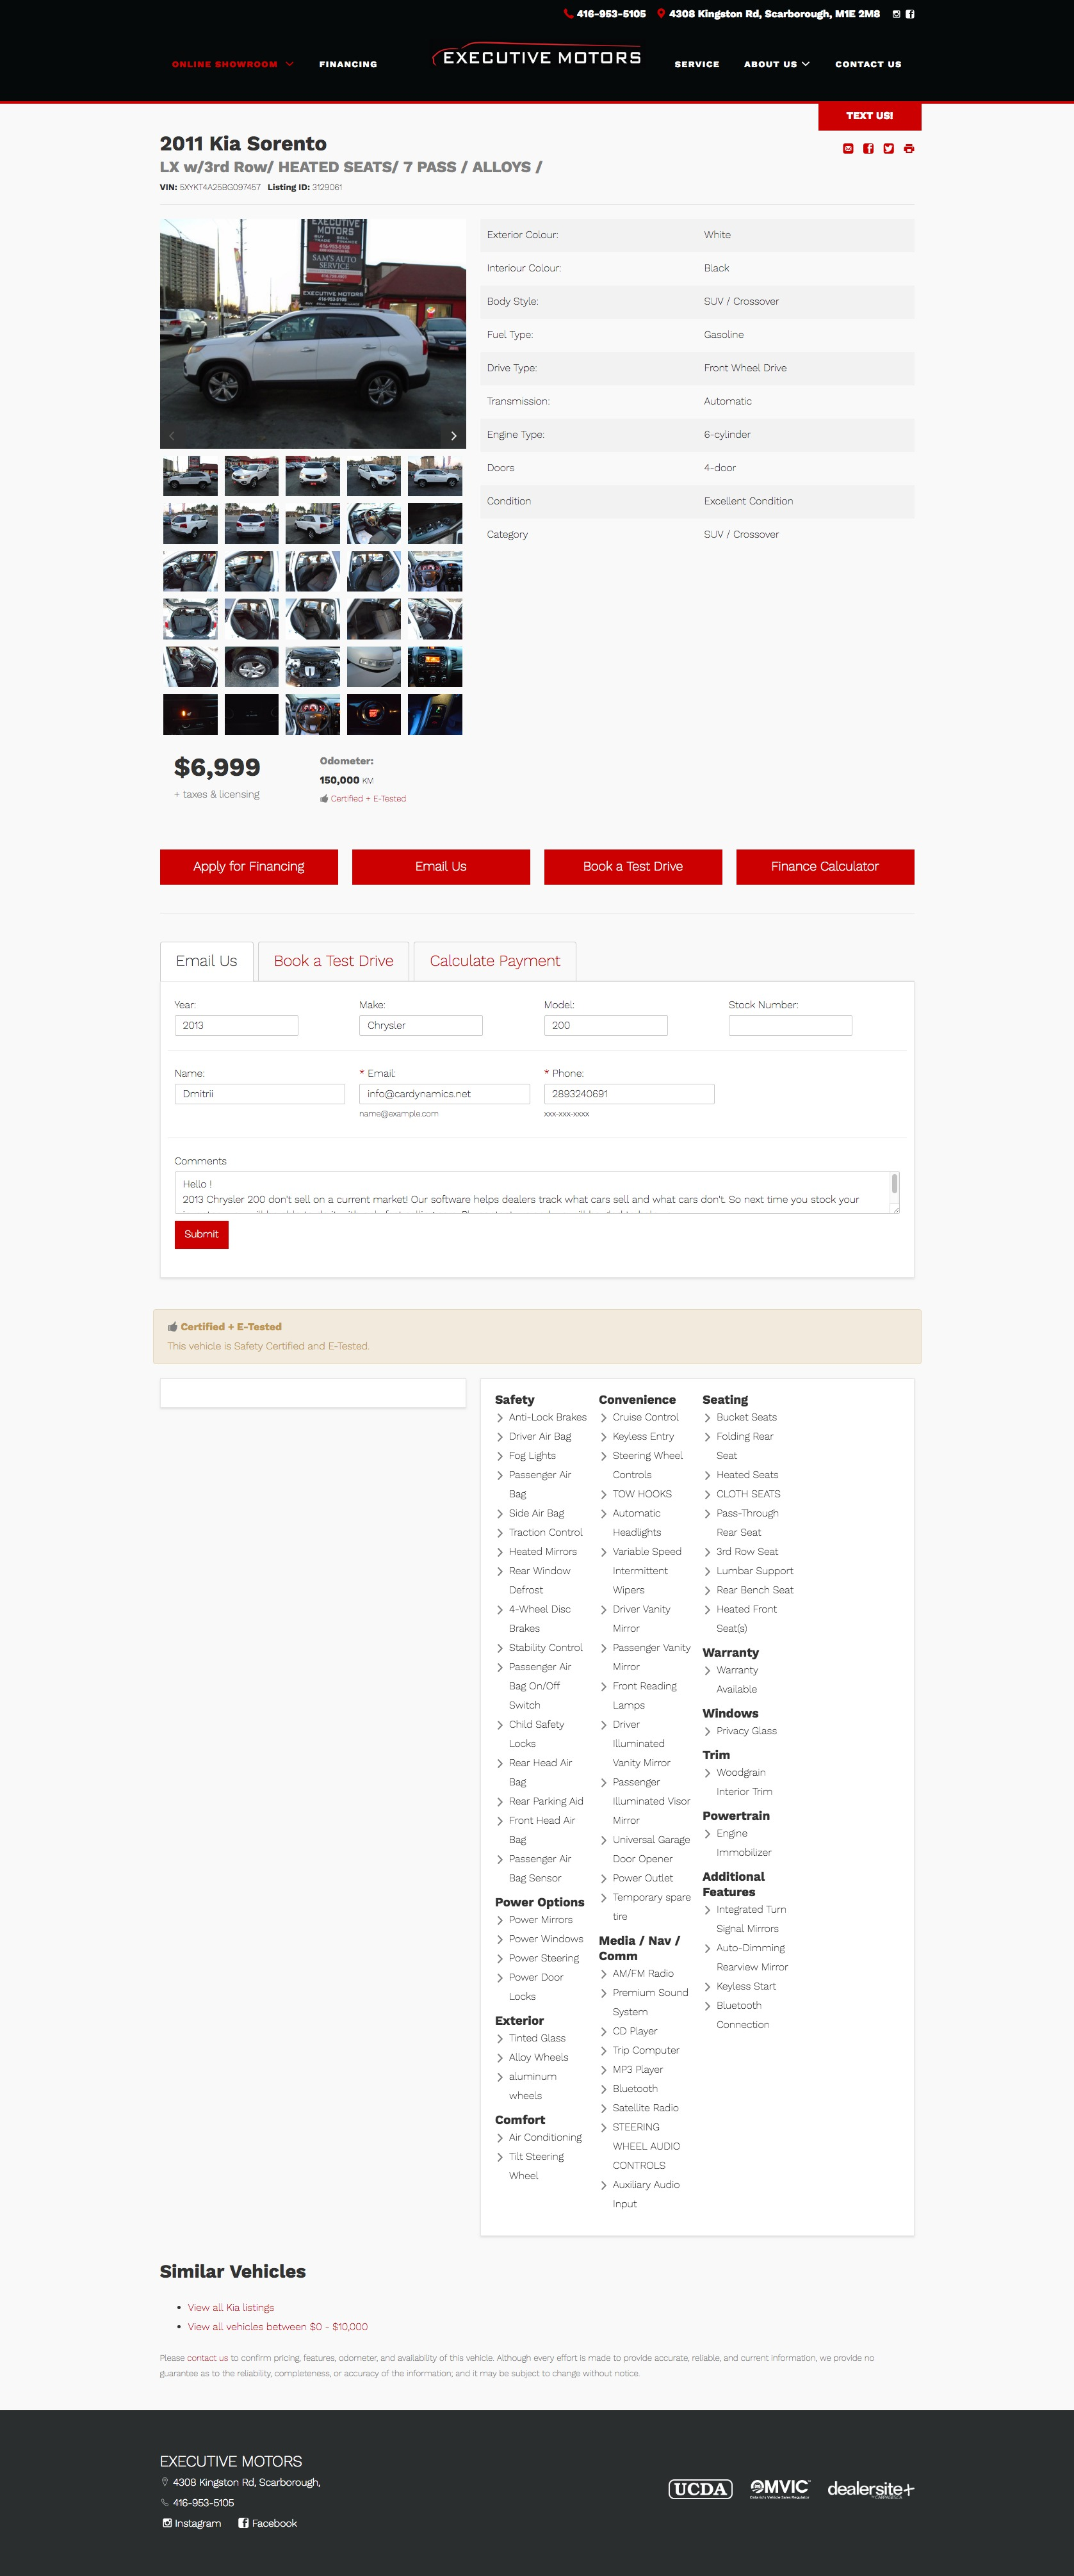car: (444, 427, 467, 450)
